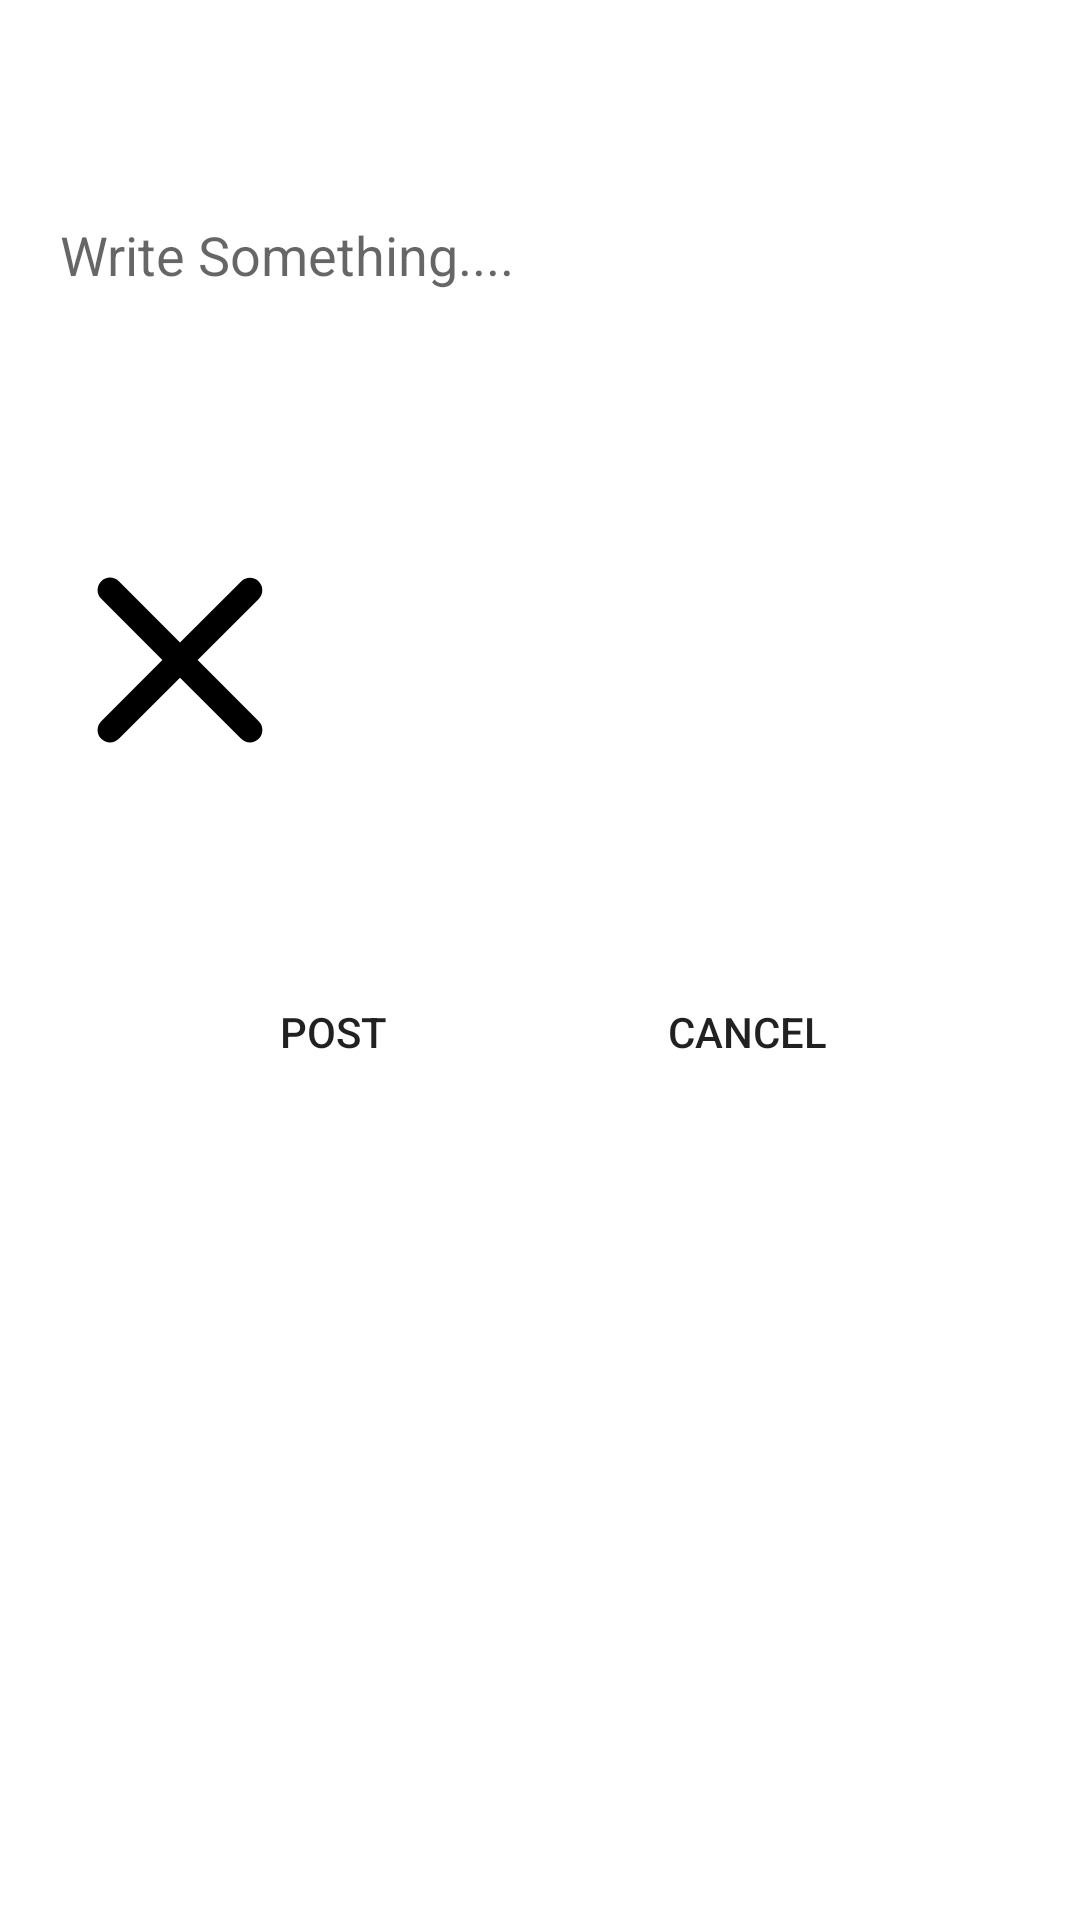

Icons on this 1080px×1920px Android screen, each with its box as (x1, y1, x2, y2):
close: (97, 577, 263, 743)
